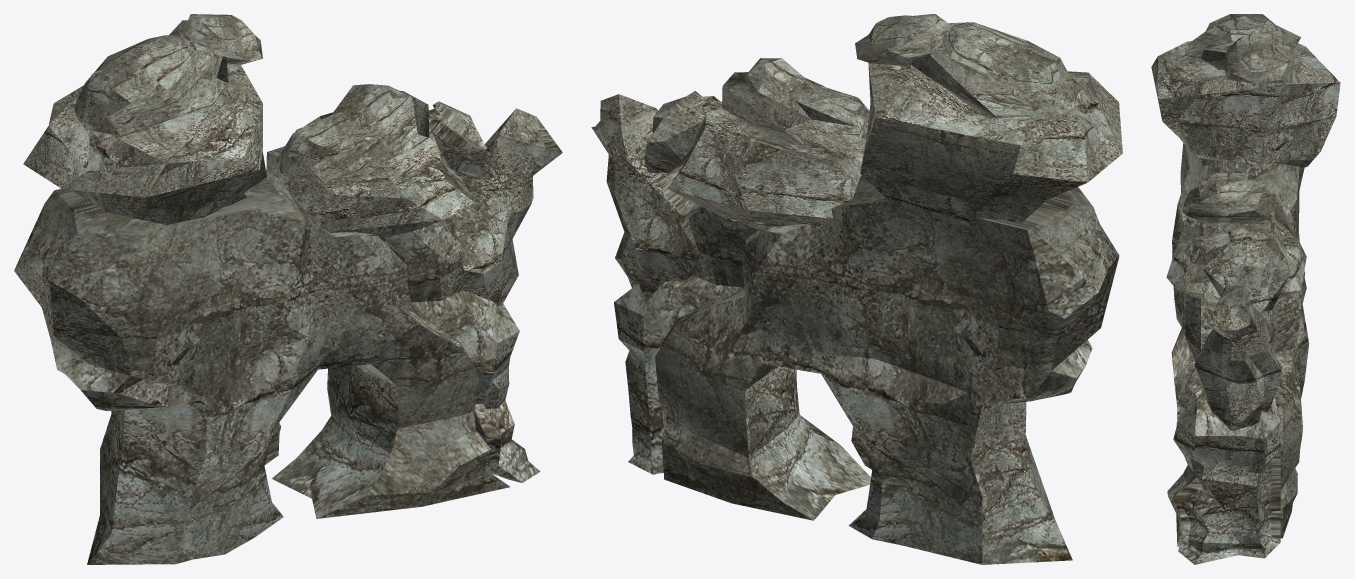
The model's file is rock_scandiv_01.dae.
3 views of the same model, side by side, from view 1: azimuth 30°, elevation 25°; view 2: azimuth 150°, elevation 25°; view 3: azimuth 270°, elevation 25° (orthographic). The views are drawn at different scales.
Parts seen in each view (by area): view 1: Cube; view 2: Cube; view 3: Cube.
Boxes of the visible parts, x1,y1,x2,y2 form: Cube: [14, 14, 562, 564]; Cube: [591, 14, 1122, 564]; Cube: [1151, 14, 1340, 564].
Size of the model in its own units: 21.16 by 8.18 by 19.86.
1 material, 1 textured.
